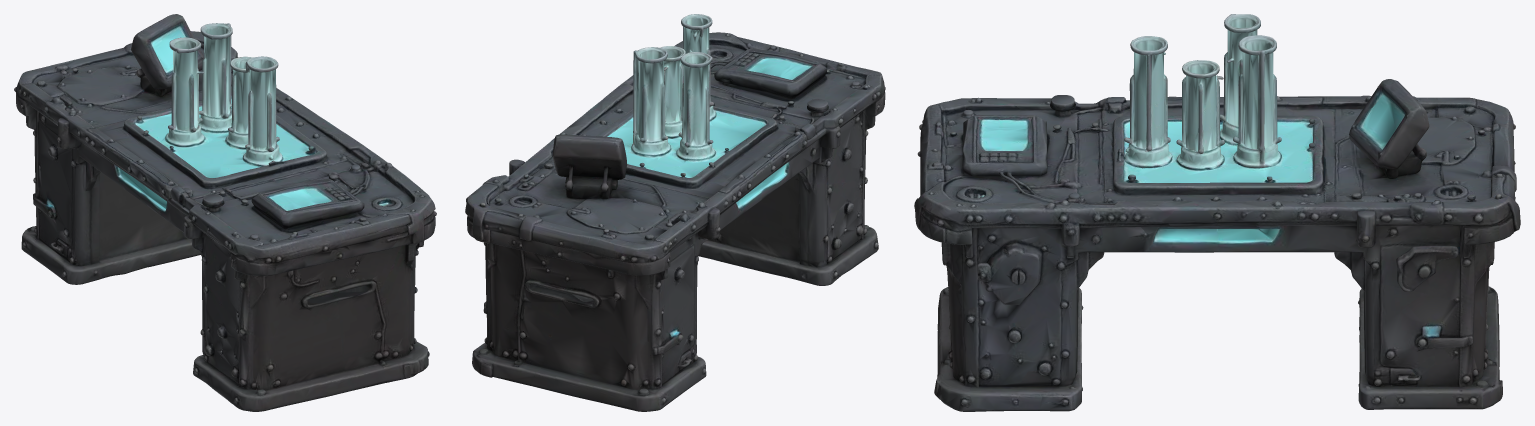
The model's file is lab-2.glb.
3 renders of one model, left to right at view 1: azimuth 30°, elevation 25°; view 2: azimuth 150°, elevation 25°; view 3: azimuth 270°, elevation 25°, orthographic. The views are drawn at different scales.
Visible parts, largest first — view 1: tripo_node_2f81791d-f6de-4635-8a83-24e6fb1c2777; view 2: tripo_node_2f81791d-f6de-4635-8a83-24e6fb1c2777; view 3: tripo_node_2f81791d-f6de-4635-8a83-24e6fb1c2777.
Part boxes in pixels (x1=…): tripo_node_2f81791d-f6de-4635-8a83-24e6fb1c2777: x1=14, y1=14, x2=436, y2=411; tripo_node_2f81791d-f6de-4635-8a83-24e6fb1c2777: x1=465, y1=14, x2=885, y2=411; tripo_node_2f81791d-f6de-4635-8a83-24e6fb1c2777: x1=914, y1=14, x2=1520, y2=411.
Bounding box in the file's own units: 0.4822 × 0.5787 × 0.9999.
Materials: 1 (1 with a texture image).
